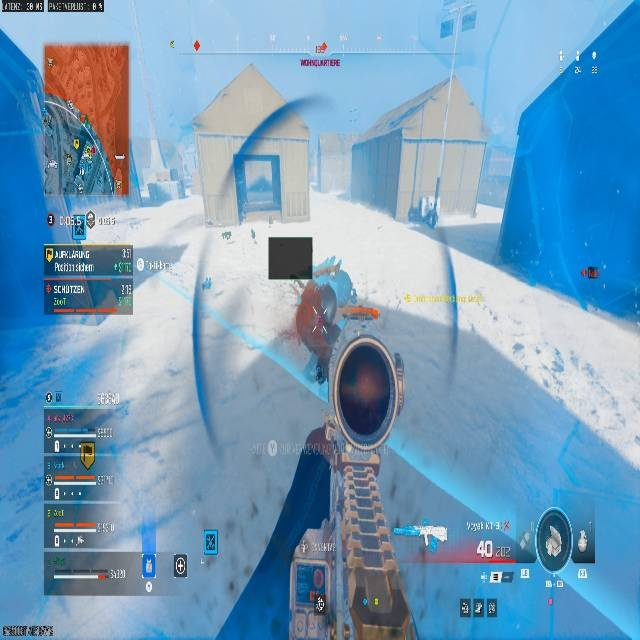head: (334, 342, 404, 429)
player: (281, 339, 431, 638)
